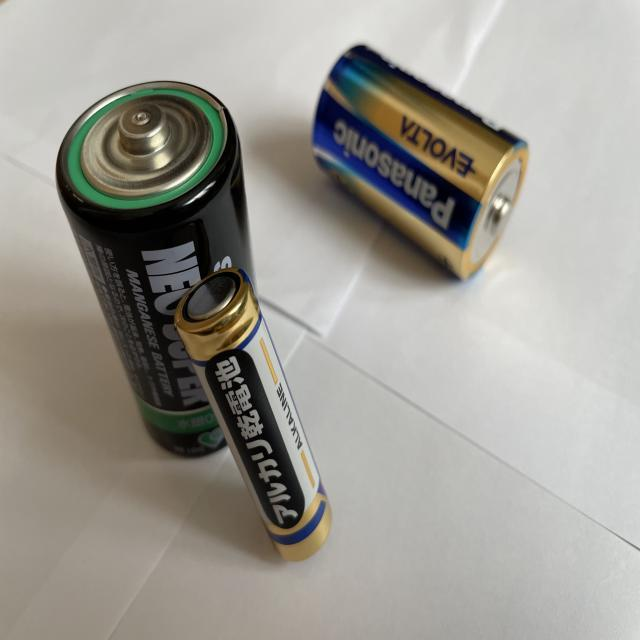hazardous waste: (55, 79, 267, 459), (310, 45, 530, 284), (176, 268, 332, 564)
